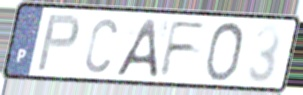3: (246, 22, 284, 86)
A: (113, 17, 159, 79)
C: (83, 15, 120, 75)
F: (157, 19, 209, 79)
O: (202, 20, 246, 83)
P: (34, 13, 82, 74)
